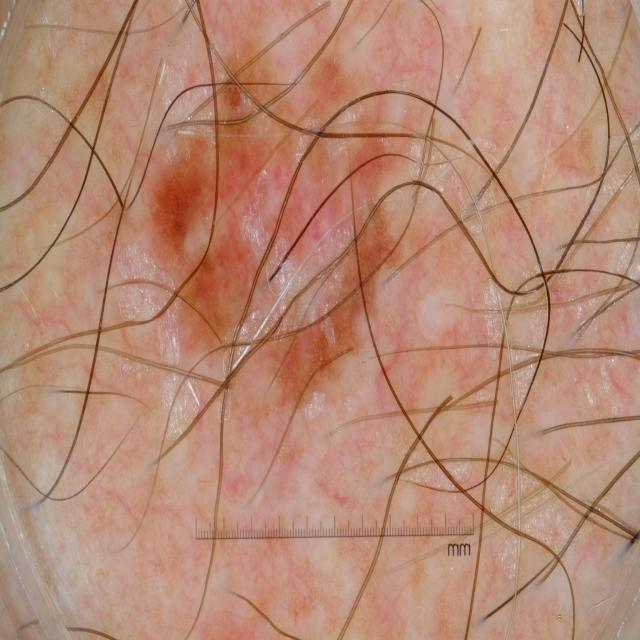Skin-Cancer Melanoma: (72, 17, 580, 604)
